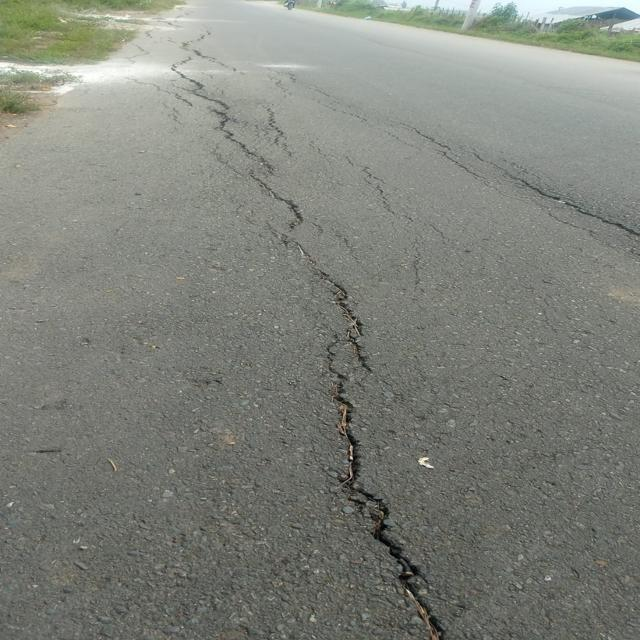Memanjang: (161, 32, 464, 640)
